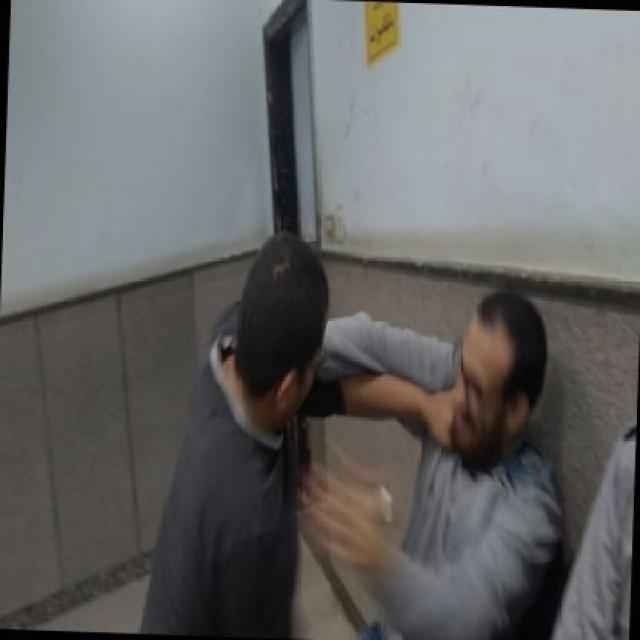fight: (127, 227, 571, 640)
